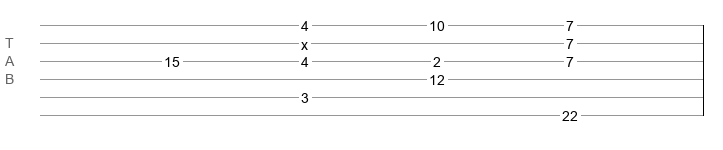10: (429, 18, 445, 28)
12: (429, 72, 445, 82)
15: (164, 54, 180, 64)
2: (433, 54, 441, 64)
22: (562, 108, 578, 118)
3: (301, 90, 309, 100)
4: (301, 18, 309, 28), (301, 54, 309, 64)
7: (566, 54, 574, 64), (566, 36, 574, 46), (566, 18, 574, 28)
x: (301, 37, 308, 45)
